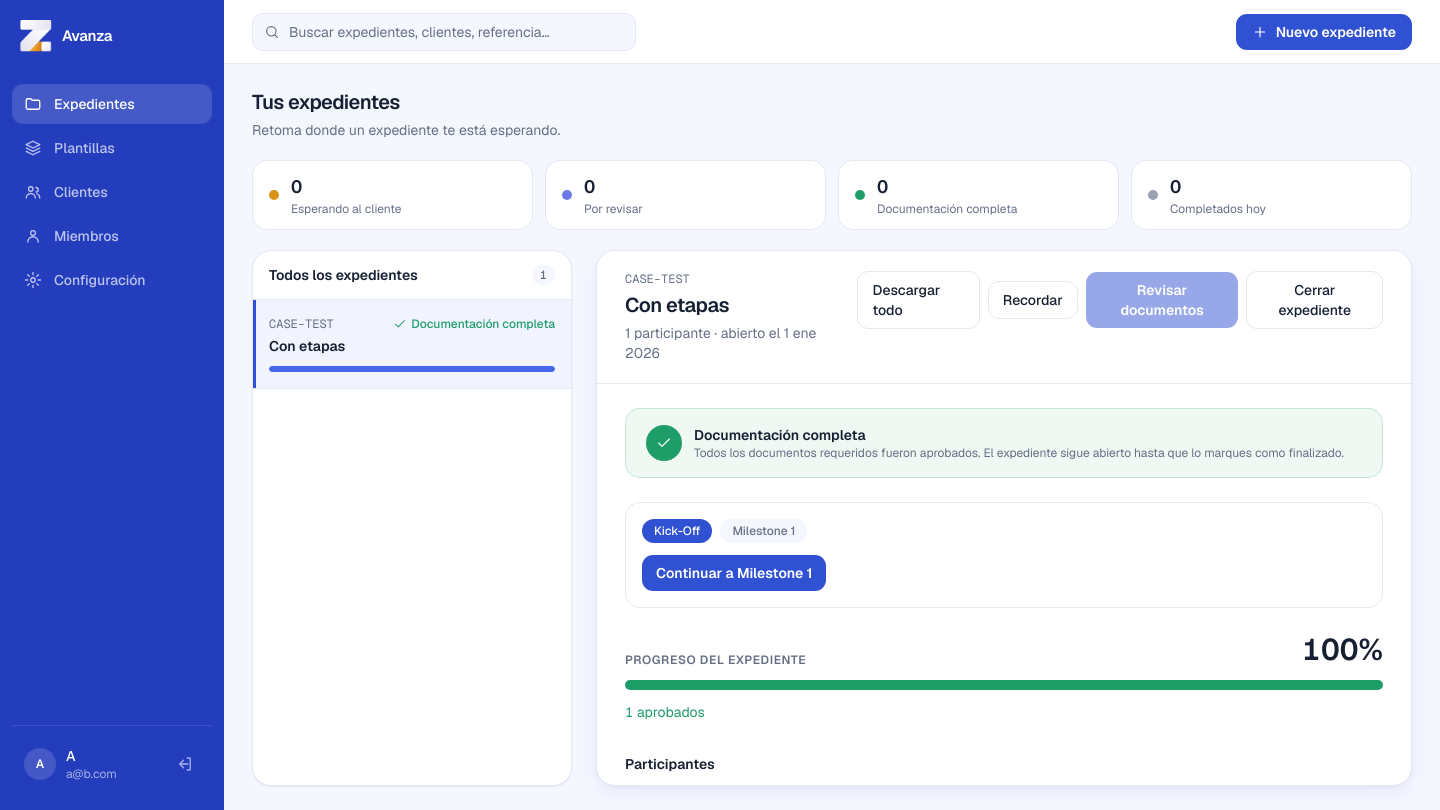
Test case: Stage stepper — Continuar button gating › renders the RPC failure message when advanceCaseStageAction rejects even though the client-side blocker was clear
Click the button "Continuar a Milestone 1" at (734, 573), box x1=642 y1=555 x2=826 y2=591
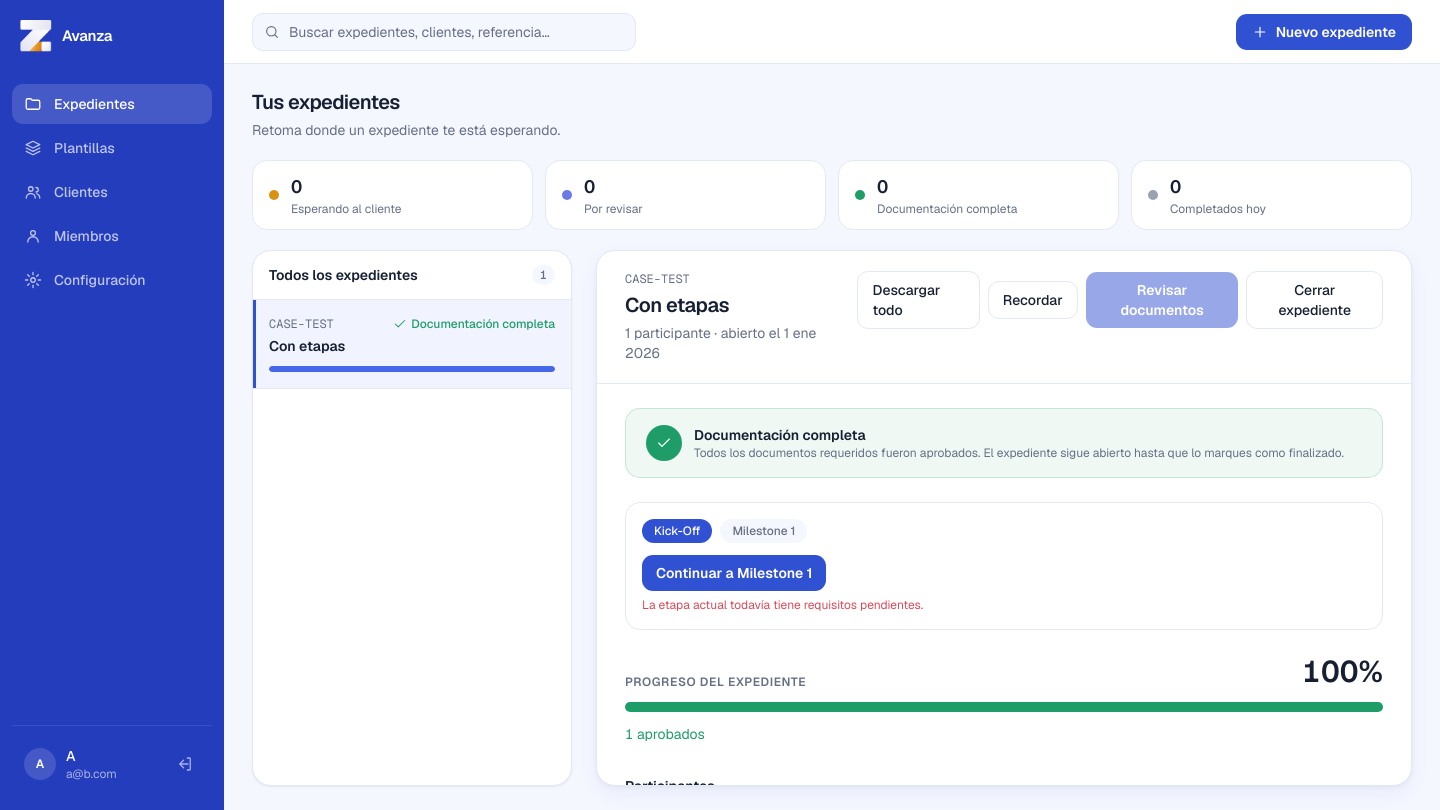
Expected: the text "La etapa actual todavía tiene requisitos pendientes." is shown, x1=642 y1=597 x2=923 y2=613
